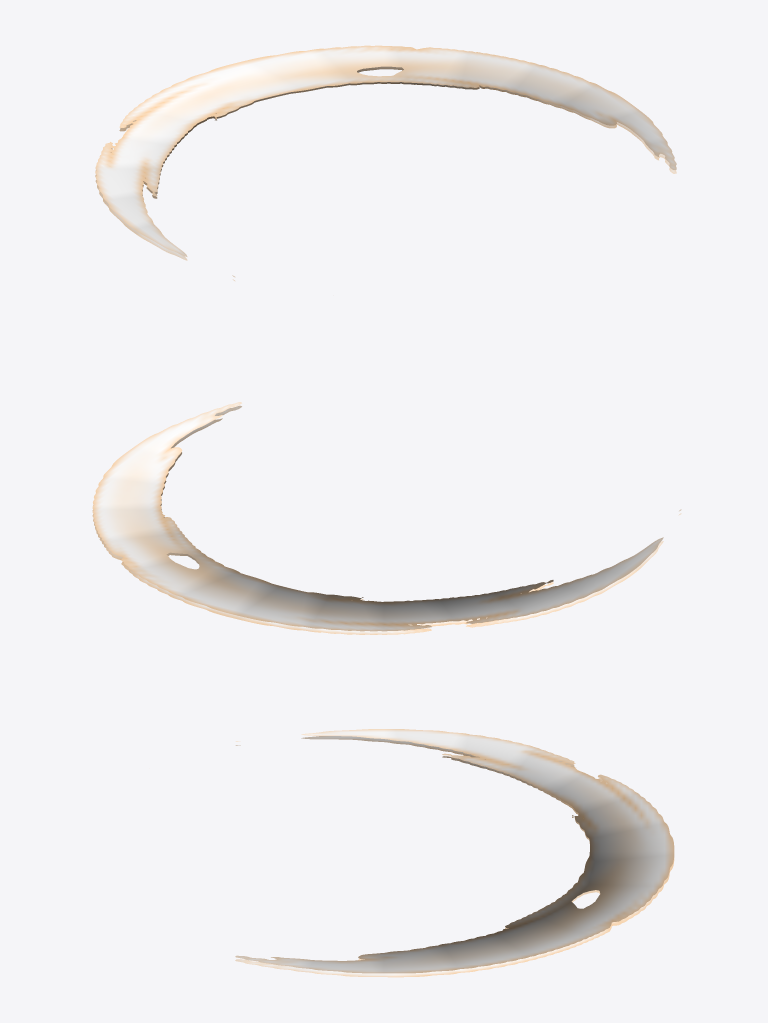
File: huan11.FBX
3 views of the same model, one above another, from view 1: azimuth 30°, elevation 25°; view 2: azimuth 150°, elevation 25°; view 3: azimuth 270°, elevation 25° (orthographic).
Visible parts, largest first — view 1: Torus001; view 2: Torus001; view 3: Torus001.
Boxes of the visible parts, box(x1,y1,x2,y2) form: Torus001: box(95, 45, 676, 281); Torus001: box(92, 402, 681, 634); Torus001: box(235, 729, 674, 977).
Bounding box in the file's own units: 2.6 × 2.6 × 0.0201.
